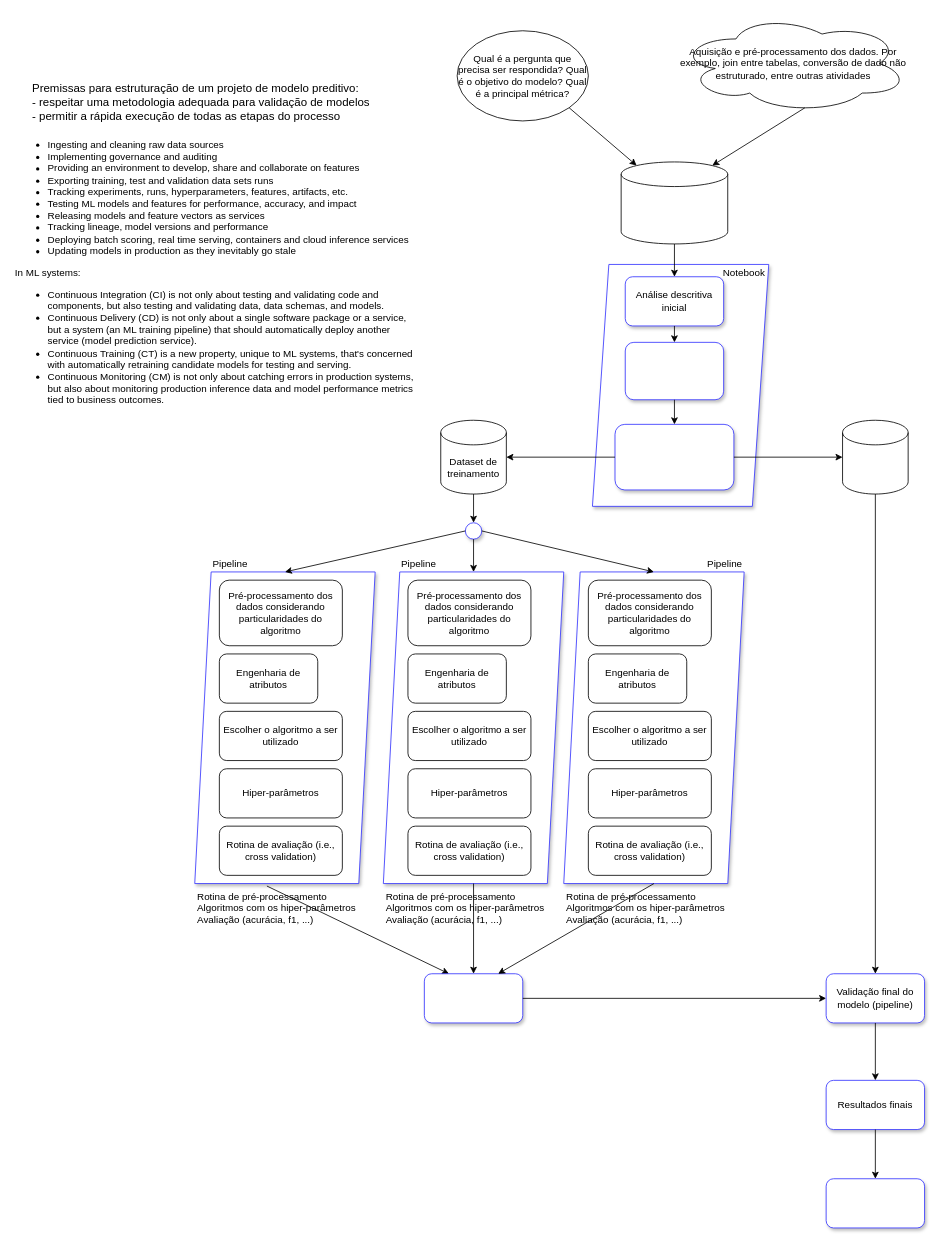
This 944x1248 diagram has some shape labels left out. Each missing label, with the centre of its shape:
Dataset original em formato tabular: point 674,202
Dataset para validação: point 875,456
Deploy em homologação ou produção: point 875,1204
Pré-processamento dos dados que são comuns para todas as abordagens avaliadas: point 675,371
Seleção aleatória de exemplos. Dataset de treinamento e validação: point 675,458
Seleção do melhor modelo (pipeline): point 474,999
